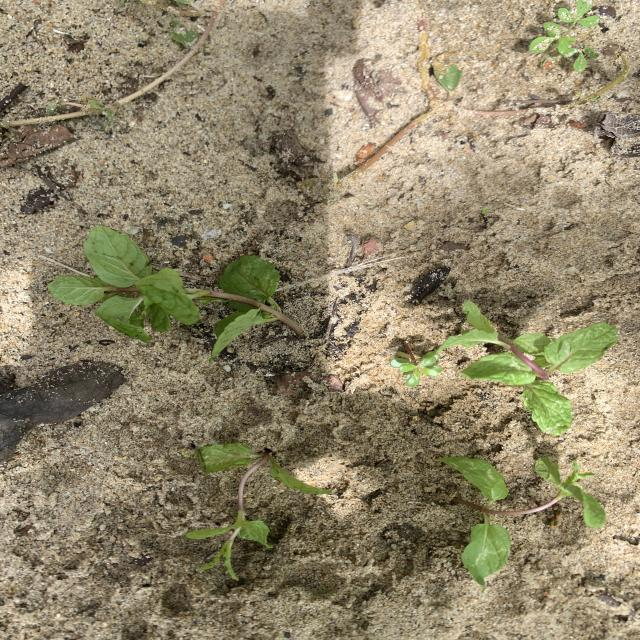crop: (50, 226, 300, 362), (438, 302, 617, 434), (440, 456, 606, 585), (187, 443, 330, 579)
weed: (530, 0, 600, 72), (390, 341, 442, 385), (73, 96, 114, 119)
